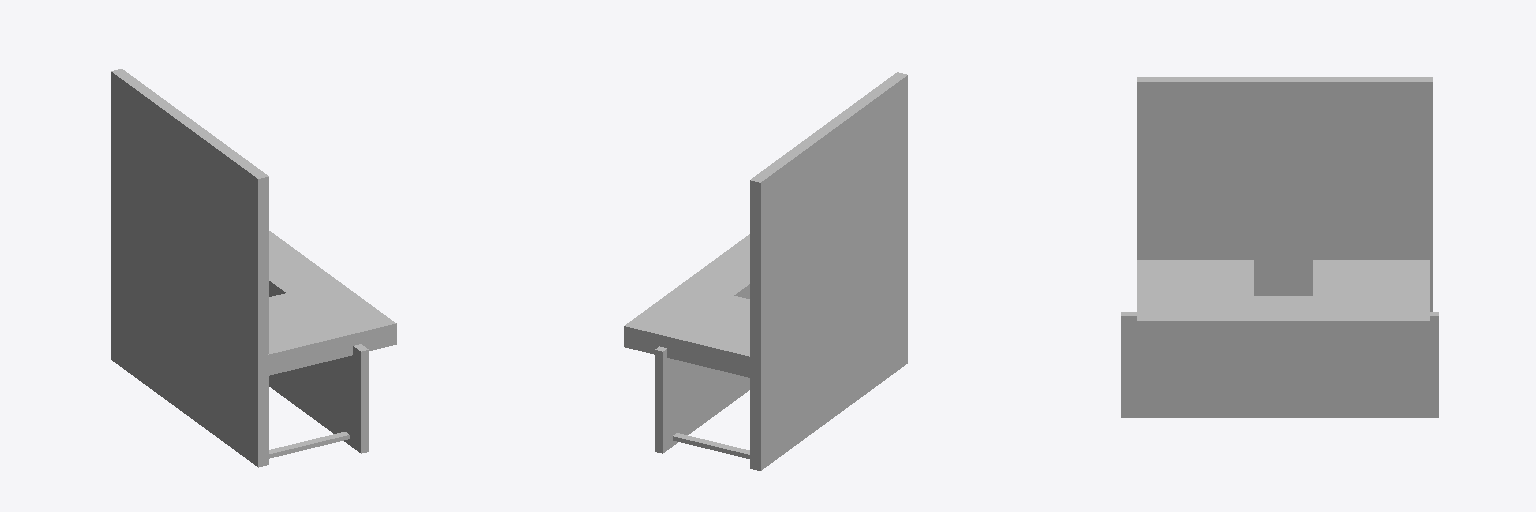
File: Hoos.obj
The picture shows the model from 3 angles: view 1: azimuth 30°, elevation 25°; view 2: azimuth 150°, elevation 25°; view 3: azimuth 270°, elevation 25°; orthographic projection.
Visible parts, largest first — view 1: Cube.003_Cube.004; view 2: Cube.003_Cube.004; view 3: Cube.003_Cube.004.
Boxes of the visible parts, box(x1,y1,x2,y2) form: Cube.003_Cube.004: box(111, 69, 396, 467); Cube.003_Cube.004: box(624, 72, 907, 470); Cube.003_Cube.004: box(1121, 77, 1438, 417).
Bounding box in the file's own units: 113 × 229 × 227.